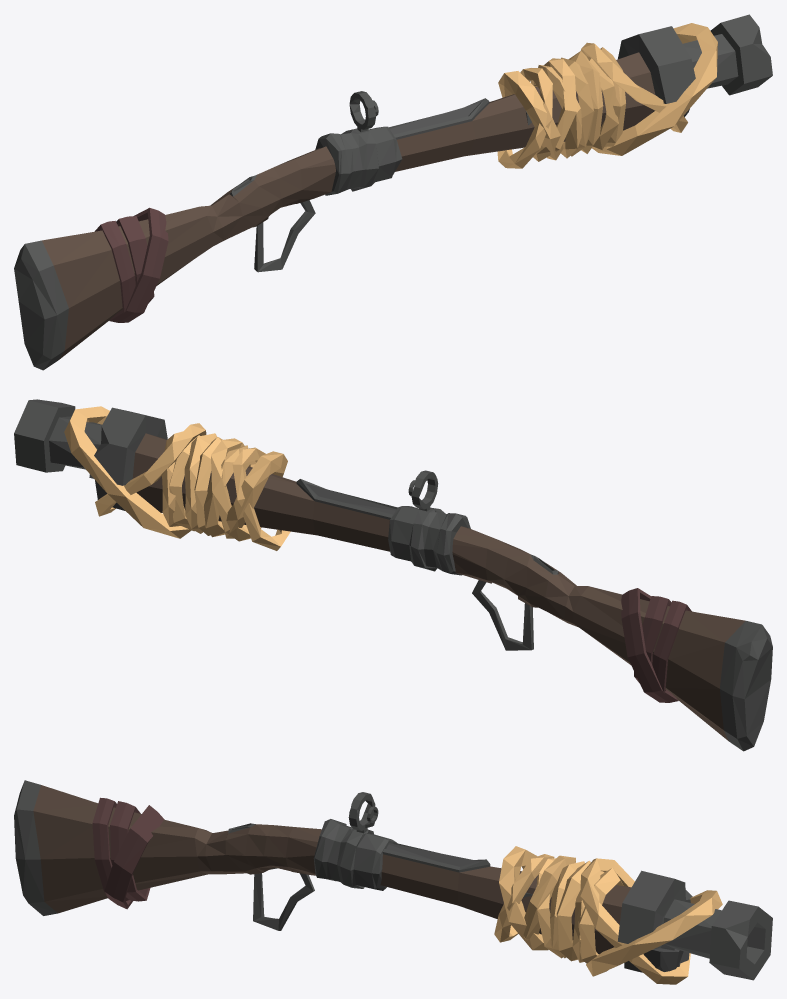
The model's file is Harpoon_002.fbx.
3 renders of one model, top to bottom at view 1: azimuth 30°, elevation 25°; view 2: azimuth 150°, elevation 25°; view 3: azimuth 330°, elevation 25°, orthographic.
Visible parts, largest first — view 1: Harpoon_002; view 2: Harpoon_002; view 3: Harpoon_002.
Part boxes in pixels (<box>): Harpoon_002: <box>14,14,772,370</box>; Harpoon_002: <box>14,399,772,751</box>; Harpoon_002: <box>14,780,772,984</box>.
Size of the model in its own units: 1.08 by 0.2809 by 0.1416.
